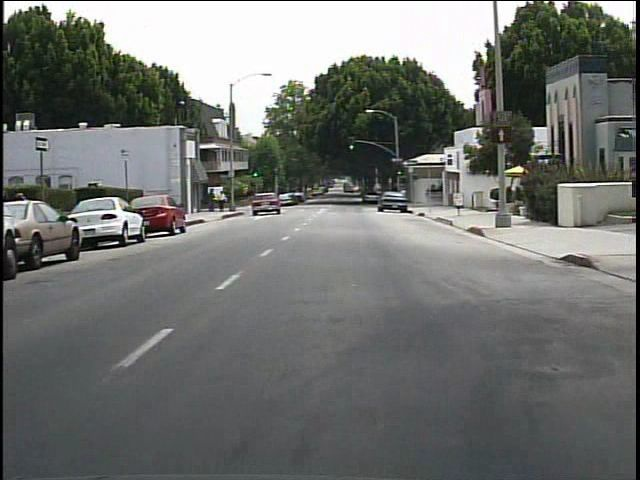person: (206, 190, 219, 215), (217, 189, 229, 213)
